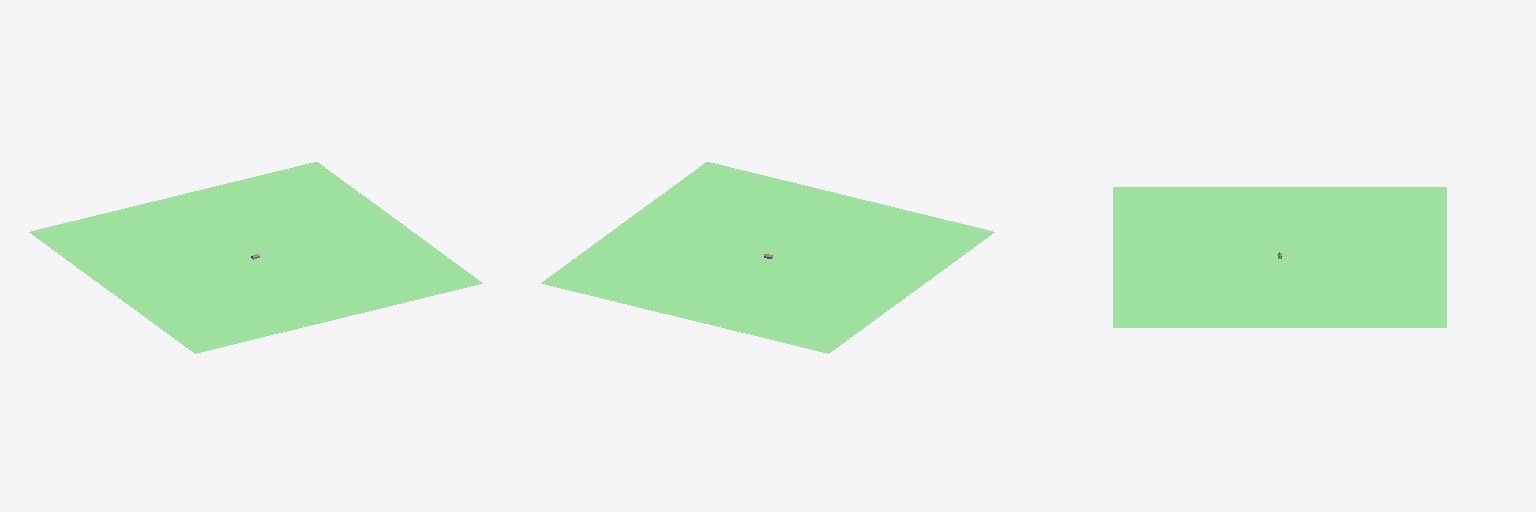
Rendered from cottage.obj.
The picture shows the model from 3 angles: view 1: azimuth 30°, elevation 25°; view 2: azimuth 150°, elevation 25°; view 3: azimuth 270°, elevation 25°; orthographic projection.
Visible parts, largest first — view 1: ground_Plane.004; view 2: ground_Plane.004; view 3: ground_Plane.004.
Part boxes in pixels (left/top/right/bottom): ground_Plane.004: left=29, top=162, right=482, bottom=353; ground_Plane.004: left=541, top=162, right=994, bottom=353; ground_Plane.004: left=1113, top=187, right=1446, bottom=327.
Size of the model in its own units: 1260 by 14.74 by 1260.